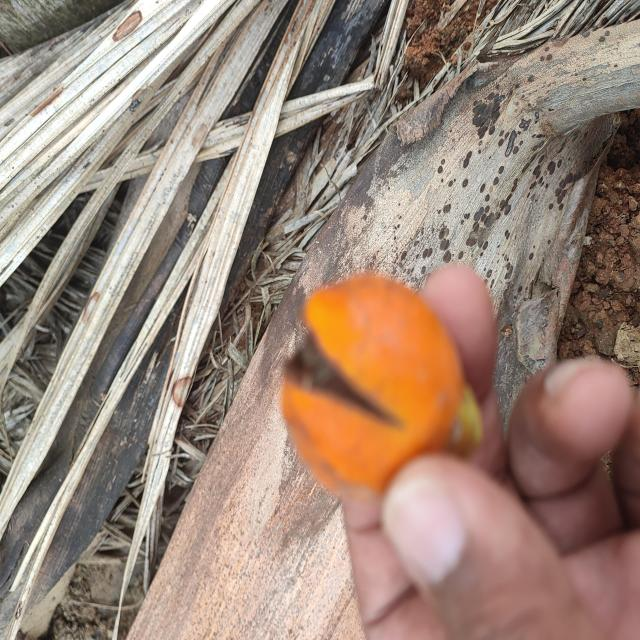damaged: (280, 271, 484, 521)
